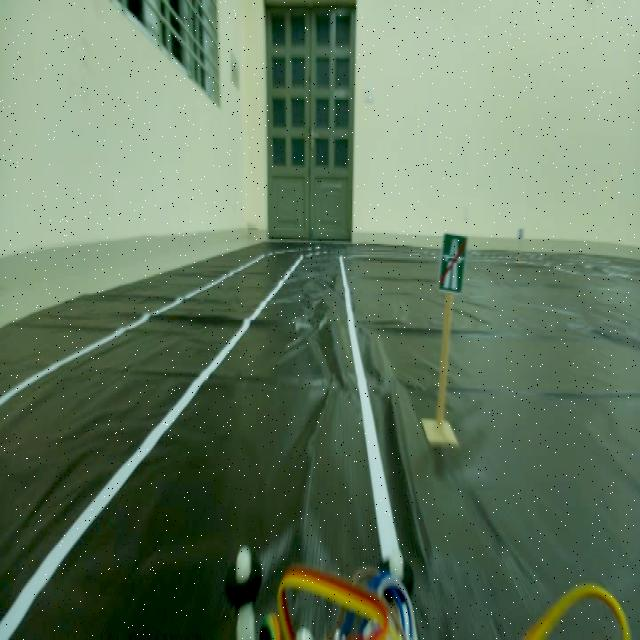highway_exit: (432, 226, 473, 311)
